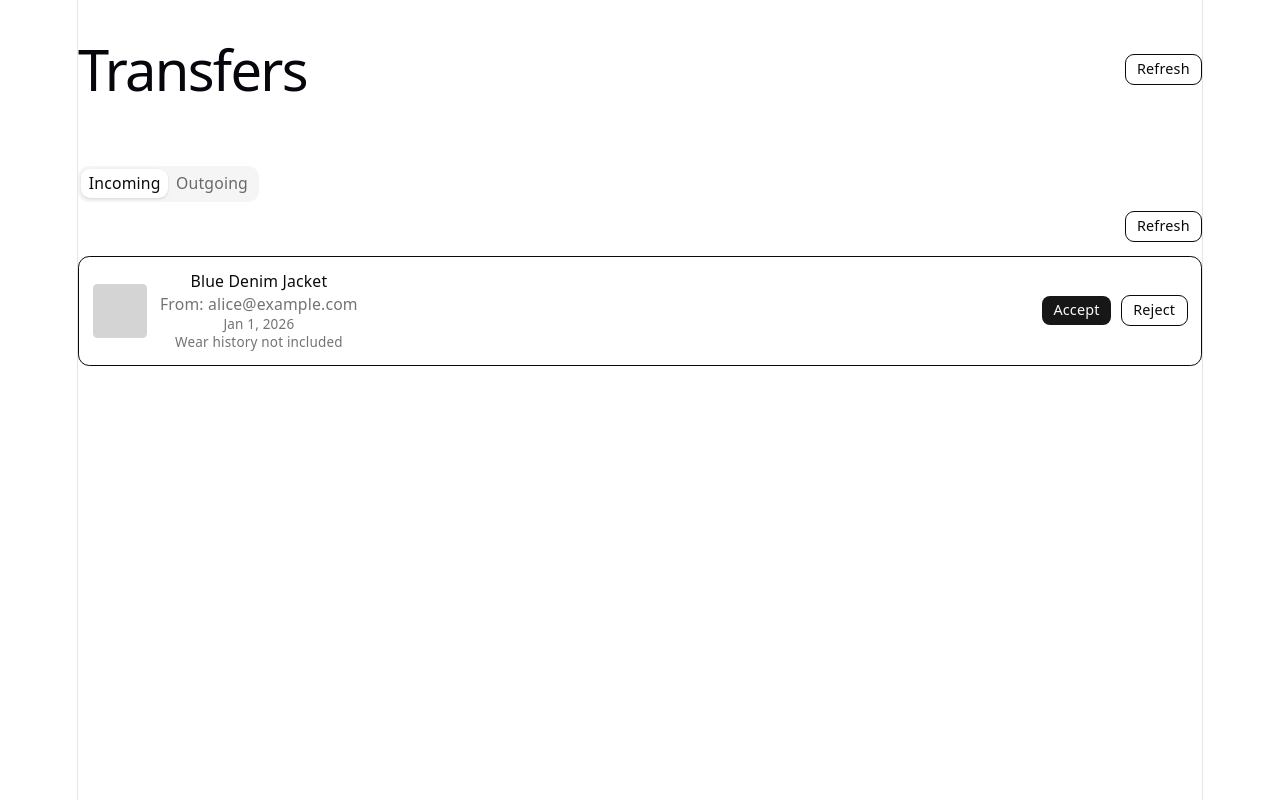
Test: TransfersPage › TransfersPage should not show IncomingTransfers content after switching to Outgoing tab
Check: the element with test id "incoming-transfers" is shown, box [78,211,1202,366]
Click the tab "Outgoing" at {"x": 212, "y": 184}, box [168,169,256,198]
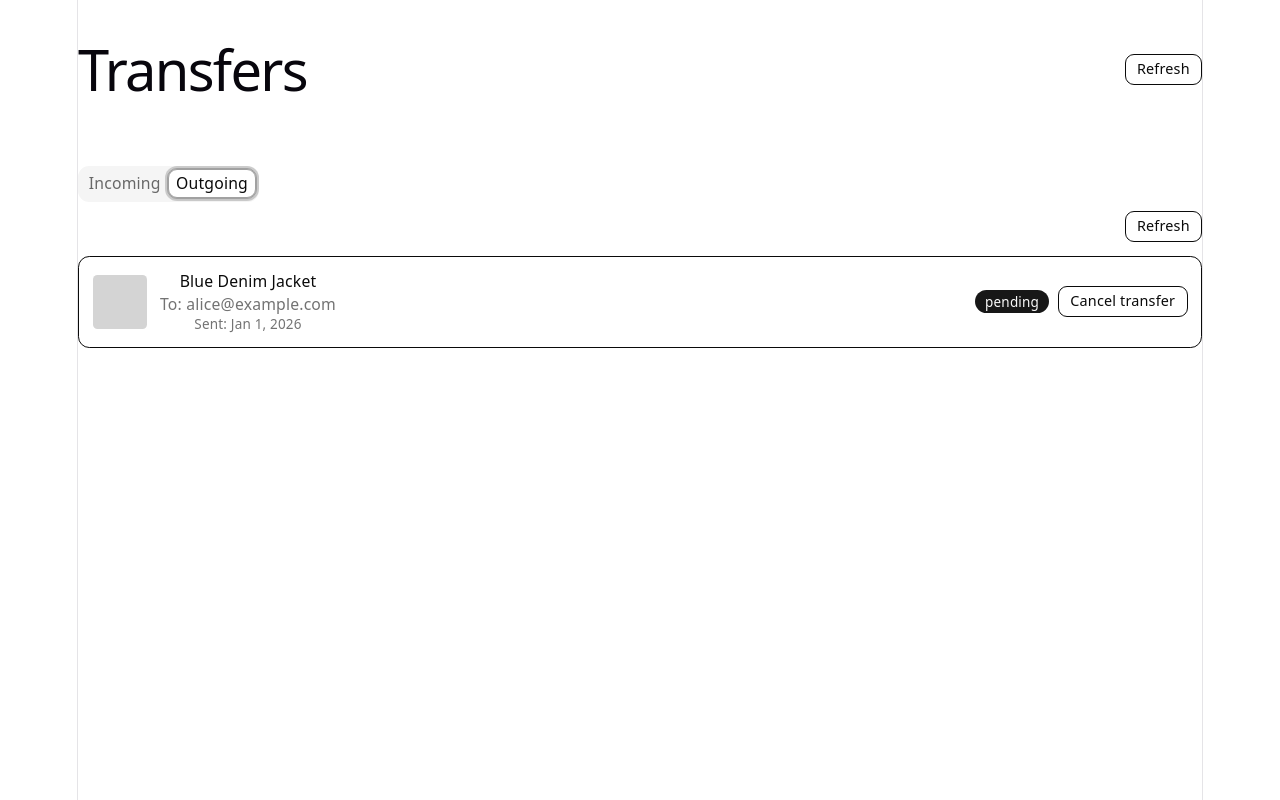
Check: the element with test id "incoming-transfers" is gone
